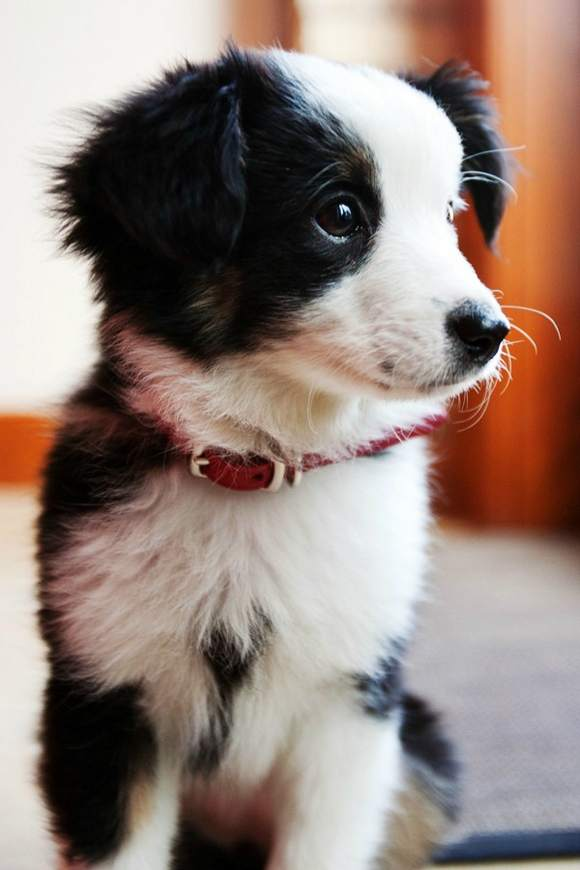dog: (42, 41, 515, 870)
